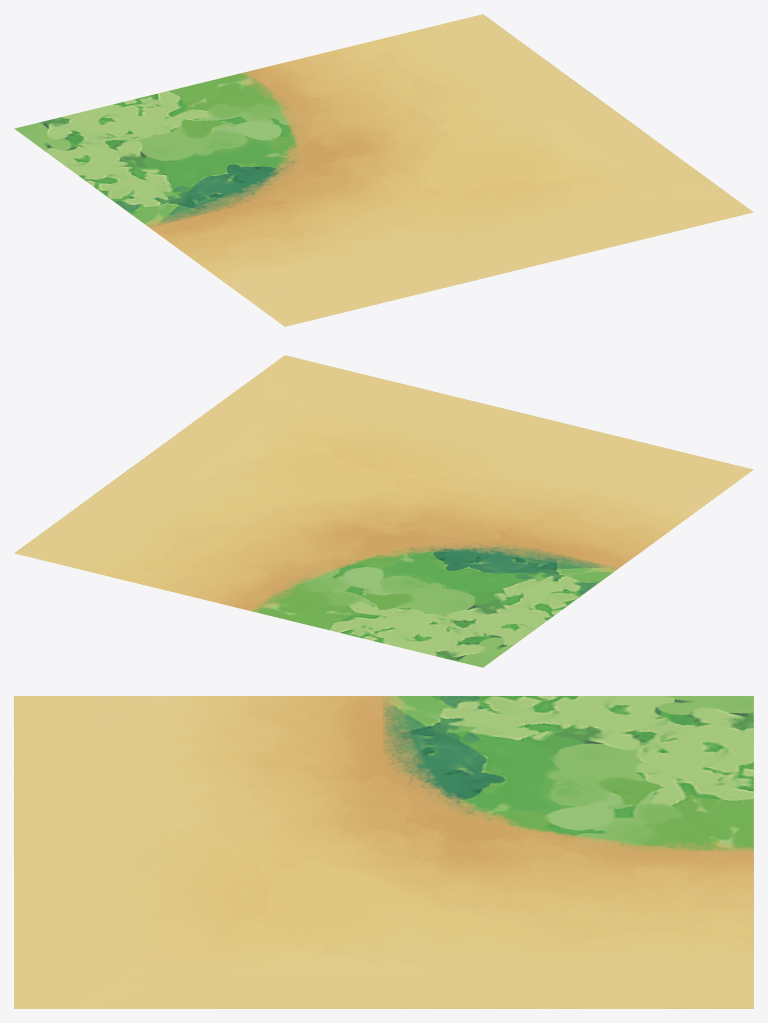
The model's file is env_tiles_mesh_14.fbx.
3 renders of one model, top to bottom at view 1: azimuth 30°, elevation 25°; view 2: azimuth 150°, elevation 25°; view 3: azimuth 270°, elevation 25°, orthographic. The views are drawn at different scales.
Visible parts, largest first — view 1: T14; view 2: T14; view 3: T14.
Boxes of the visible parts, x1,y1,x2,y2 form: T14: (14,14,753,326); T14: (14,355,753,667); T14: (14,696,753,1008).
Size of the model in its own units: 1000 by 0 by 1000.
